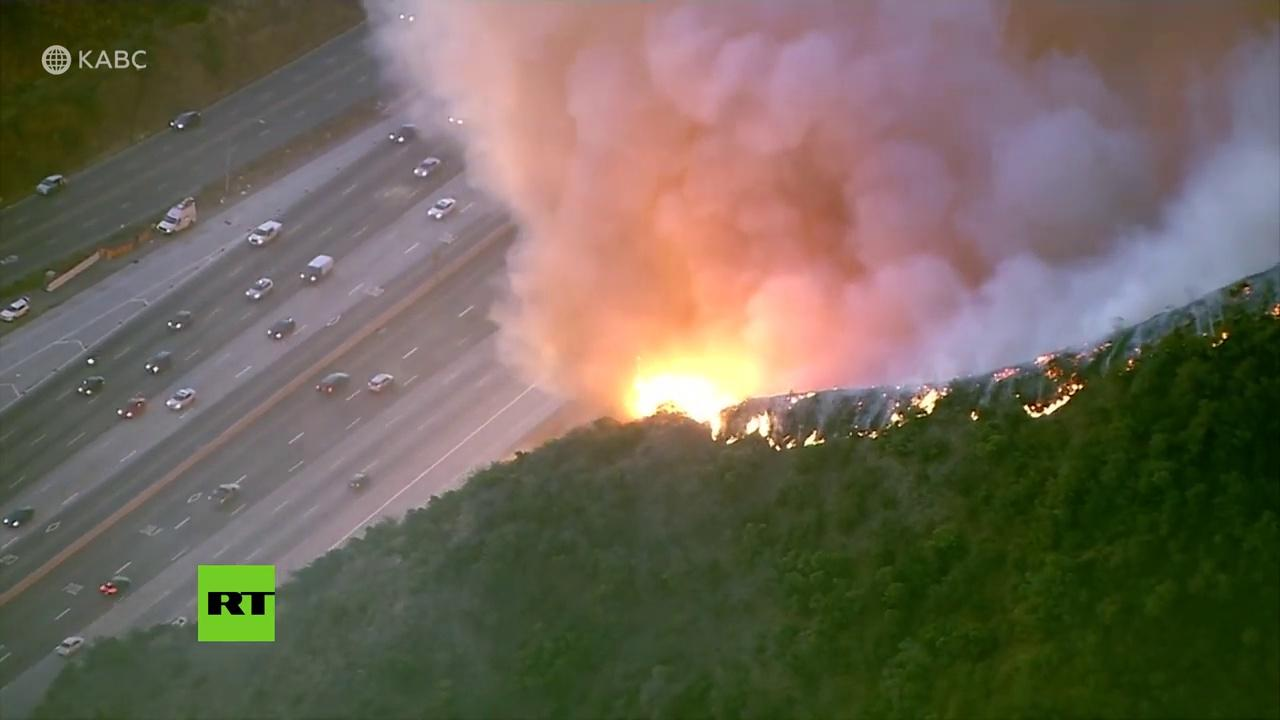Fire: (636, 362, 726, 441), (729, 414, 825, 453), (889, 389, 946, 429), (1021, 383, 1085, 418)
